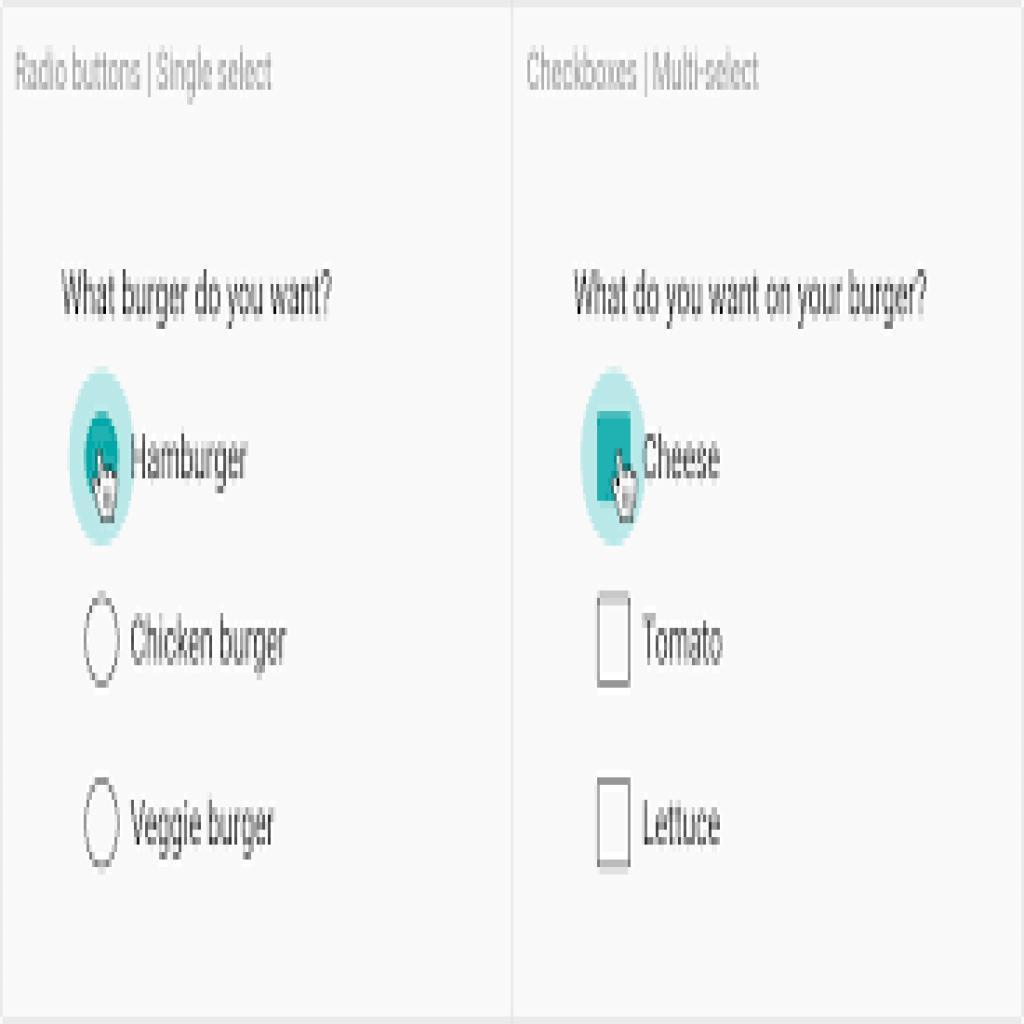checkbox: (595, 596, 635, 692), (596, 780, 634, 872)
radio: (84, 587, 125, 694), (81, 772, 124, 873)
